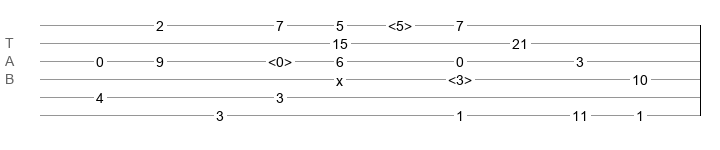0: (96, 54, 104, 64), (456, 54, 464, 64)
1: (456, 108, 464, 118), (636, 108, 644, 118)
10: (632, 72, 648, 82)
11: (572, 108, 588, 118)
15: (332, 36, 348, 46)
2: (156, 18, 164, 28)
21: (512, 36, 528, 46)
3: (216, 108, 224, 118), (276, 90, 284, 100), (576, 54, 584, 64)
4: (96, 90, 104, 100)
5: (336, 18, 344, 28)
6: (336, 54, 344, 64)
7: (276, 18, 284, 28), (456, 18, 464, 28)
9: (156, 54, 164, 64)
harmonic: (268, 54, 292, 64), (388, 18, 412, 28), (448, 72, 472, 82)
x: (336, 73, 343, 81)
